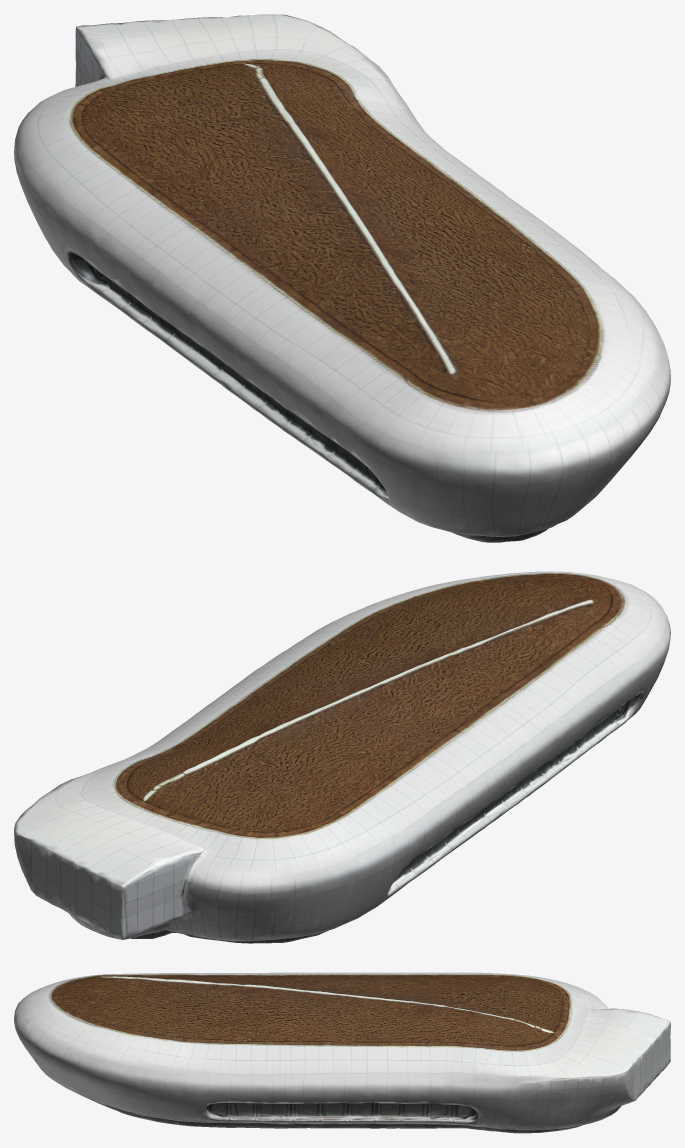
The model's file is DDP_꼬리동.glb.
3 renders of one model, top to bottom at view 1: azimuth 30°, elevation 25°; view 2: azimuth 150°, elevation 25°; view 3: azimuth 270°, elevation 25°, orthographic. The views are drawn at different scales.
Parts seen in each view (by area): view 1: texture_mapping; view 2: texture_mapping; view 3: texture_mapping.
Boxes of the visible parts, <box> form: texture_mapping: <box>14,14,670,542</box>; texture_mapping: <box>14,571,670,943</box>; texture_mapping: <box>14,972,670,1133</box>.
Bounding box in the file's own units: 0.3993 × 0.1707 × 1.
Materials: 1 (1 with a texture image).
